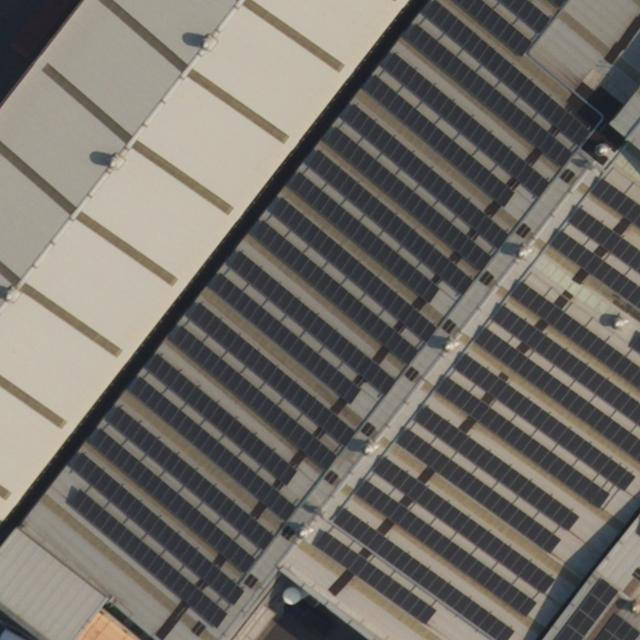panel: (58, 449, 248, 607), (417, 1, 602, 150), (400, 21, 577, 170), (451, 354, 640, 493), (97, 402, 277, 547), (181, 300, 356, 448), (123, 375, 299, 522), (379, 50, 552, 199), (371, 458, 555, 598), (301, 149, 475, 297), (319, 124, 494, 271), (83, 428, 259, 574), (58, 481, 232, 627), (338, 103, 512, 247), (352, 482, 536, 618), (331, 508, 517, 640), (224, 249, 398, 390), (266, 197, 438, 339), (166, 326, 337, 468), (248, 220, 419, 362), (433, 376, 609, 510), (473, 328, 640, 463), (358, 74, 519, 206), (395, 431, 559, 560), (283, 171, 442, 304), (142, 352, 299, 485), (413, 406, 579, 530), (489, 305, 640, 439), (206, 272, 359, 398), (510, 280, 640, 387), (309, 528, 435, 626), (548, 230, 640, 310), (566, 206, 640, 270), (448, 1, 534, 56), (590, 177, 640, 226), (493, 1, 552, 33)
